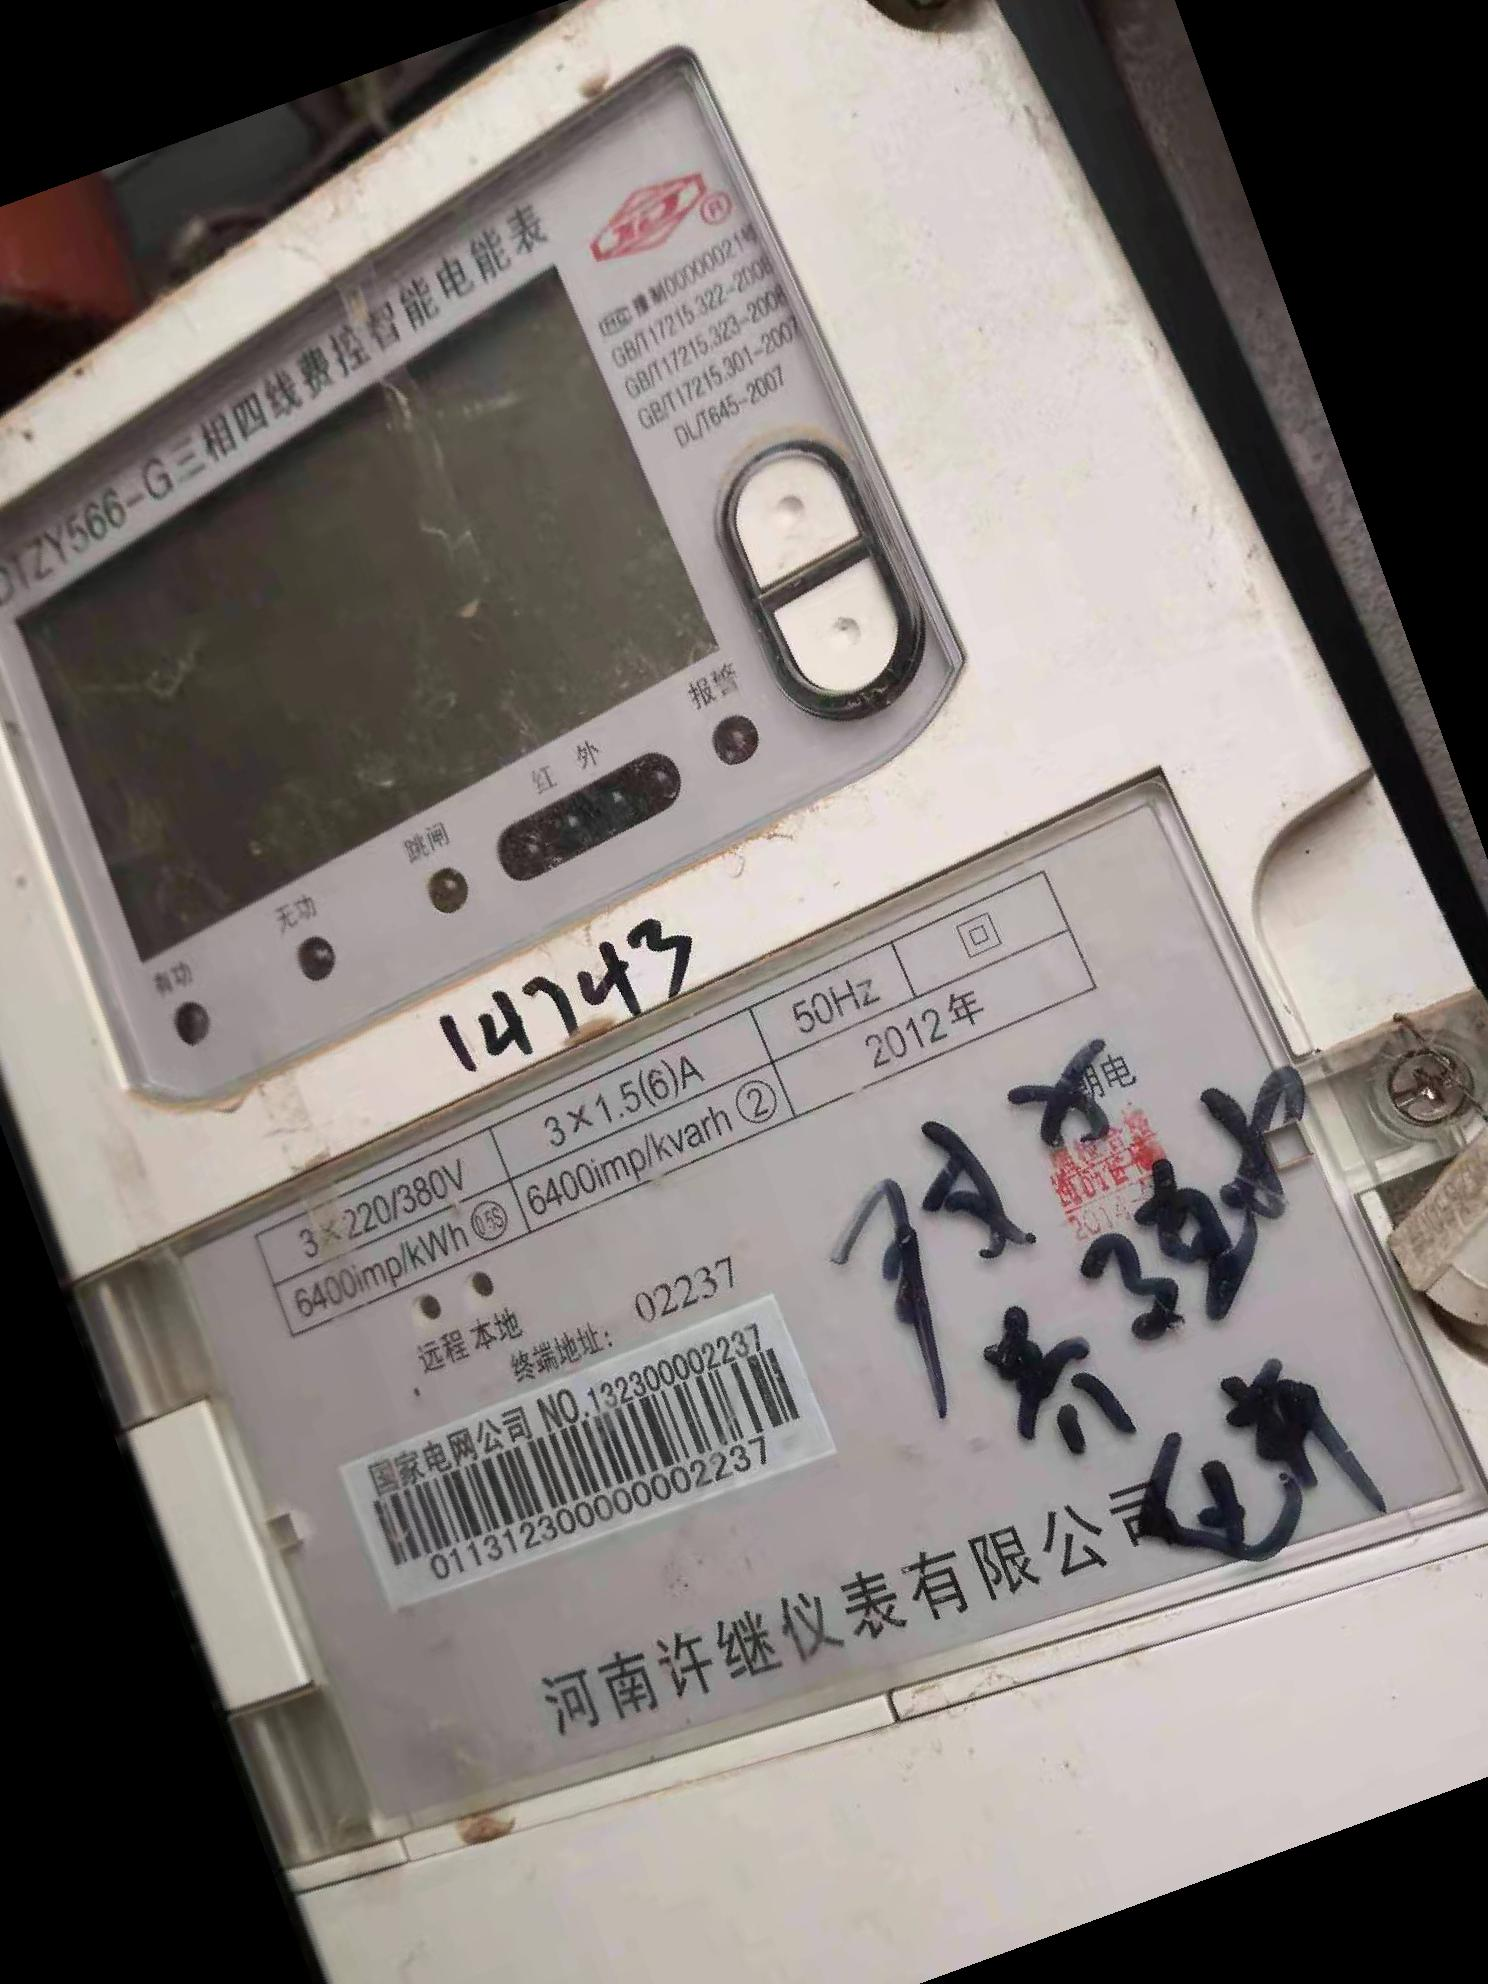digital: (2, 2, 1477, 1978)
